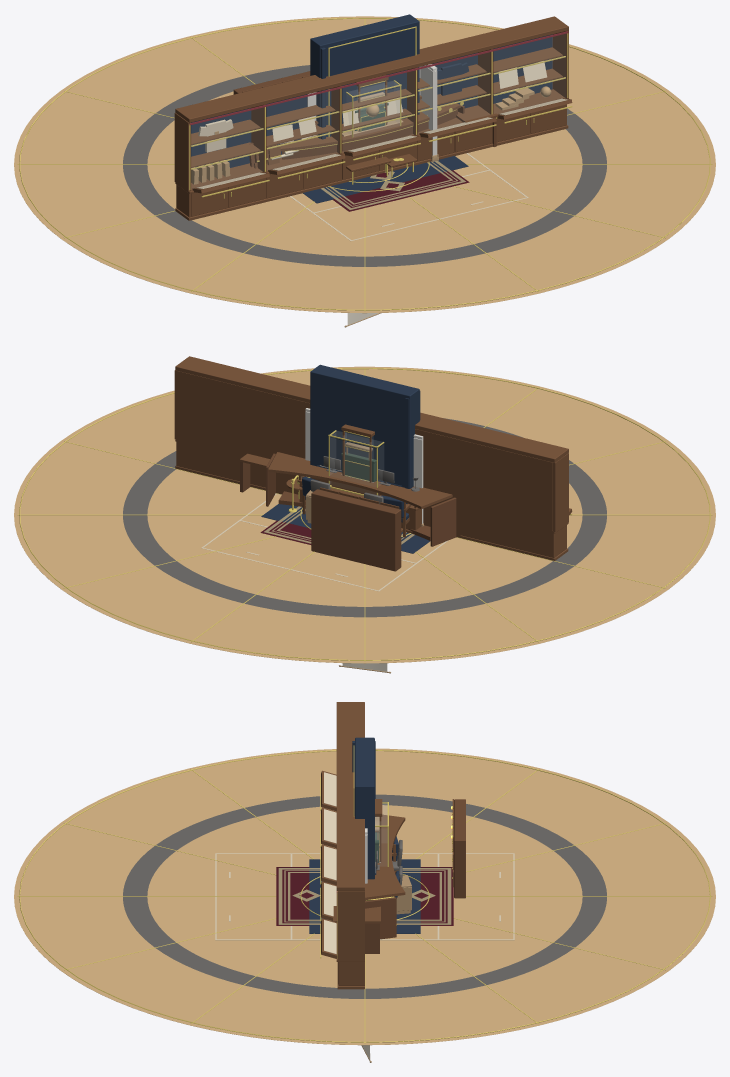
Rendered from kit.fcca7c6c.glb.
3 renders of one model, top to bottom at view 1: azimuth 30°, elevation 25°; view 2: azimuth 150°, elevation 25°; view 3: azimuth 270°, elevation 25°, orthographic.
Visible parts, largest first — view 1: atrium-floor-inlay, history-case-run, atrium-floor-inlay__dark, atrium-floor-inlay__brass, history-case-run__lining, history-case-run__paper, holyoke-entry-screen__art, history-case-run__trim, holyoke-entry-screen, atrium-reception-desk__timber, atrium-lounge-set__upholstery, office-rug (+7 smaller); view 2: atrium-floor-inlay, history-case-run, atrium-floor-inlay__dark, holyoke-entry-screen, atrium-reception-desk__storage, atrium-floor-inlay__brass, atrium-reception-desk__timber, atrium-reception-desk, atrium-lounge-set__upholstery, partition, atrium-reception-desk__props, office-safe (+4 smaller); view 3: atrium-floor-inlay, atrium-floor-inlay__dark, history-case-run, atrium-floor-inlay__brass, office-rug, holyoke-entry-screen, atrium-reception-desk__timber, office-rug__border, history-case-run__paper, atrium-lounge-set__upholstery, atrium-reception-desk, gym-court-lines (+1 smaller).
Part boxes in pixels (x1,y1,x2,y2): atrium-floor-inlay: (14,16,715,313); history-case-run: (174,16,572,220); atrium-floor-inlay__dark: (123,65,606,266); atrium-floor-inlay__brass: (17,17,712,311); history-case-run__lining: (191,34,552,168); history-case-run__paper: (196,61,567,188); holyoke-entry-screen__art: (329,28,415,136); history-case-run__trim: (189,33,572,198); holyoke-entry-screen: (310,14,419,139); atrium-reception-desk__timber: (242,75,498,168); atrium-lounge-set__upholstery: (303,156,468,203); office-rug: (332,170,469,211); atrium-floor-inlay: (14,366,715,663); history-case-run: (174,356,572,560); atrium-floor-inlay__dark: (123,418,606,617); holyoke-entry-screen: (310,364,420,503); atrium-reception-desk__storage: (311,489,401,571); atrium-floor-inlay__brass: (17,368,712,661); atrium-reception-desk__timber: (239,452,452,509); atrium-reception-desk: (240,453,456,546); atrium-lounge-set__upholstery: (261,476,430,553); partition: (305,408,423,523); atrium-reception-desk__props: (310,456,419,504); office-safe: (341,452,376,481); atrium-floor-inlay: (14,748,715,1045); atrium-floor-inlay__dark: (123,794,606,998); history-case-run: (321,702,364,989); atrium-floor-inlay__brass: (17,750,712,1043); office-rug: (276,867,453,925); holyoke-entry-screen: (352,737,375,879); atrium-reception-desk__timber: (333,799,453,923); office-rug__border: (278,868,451,924); history-case-run__paper: (324,772,336,954); atrium-lounge-set__upholstery: (309,836,420,933); atrium-reception-desk: (365,897,396,953); gym-court-lines: (215,853,514,940).
Bounding box in the file's own units: 16.4 × 7.48 × 16.4.
